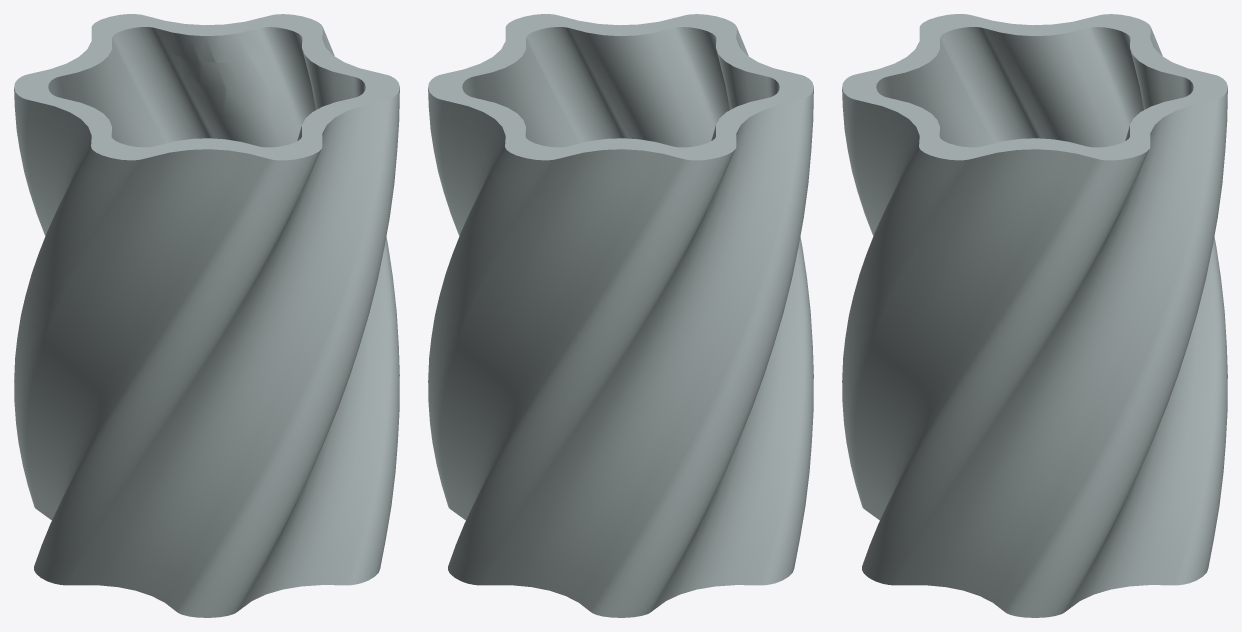
The model's file is folded.gltf.
The picture shows the model from 3 angles, left to right: view 1: azimuth 30°, elevation 25°; view 2: azimuth 150°, elevation 25°; view 3: azimuth 270°, elevation 25°; orthographic projection.
Visible parts, largest first — view 1: ExtrudedStar; view 2: ExtrudedStar; view 3: ExtrudedStar.
Part boxes in pixels (x1,y1,x2,y2): ExtrudedStar: (14, 14, 399, 617); ExtrudedStar: (428, 14, 813, 617); ExtrudedStar: (842, 14, 1227, 617).
Bounding box in the file's own units: 3.11 × 4 × 3.11.
Materials: 1 (1 with a texture image).
